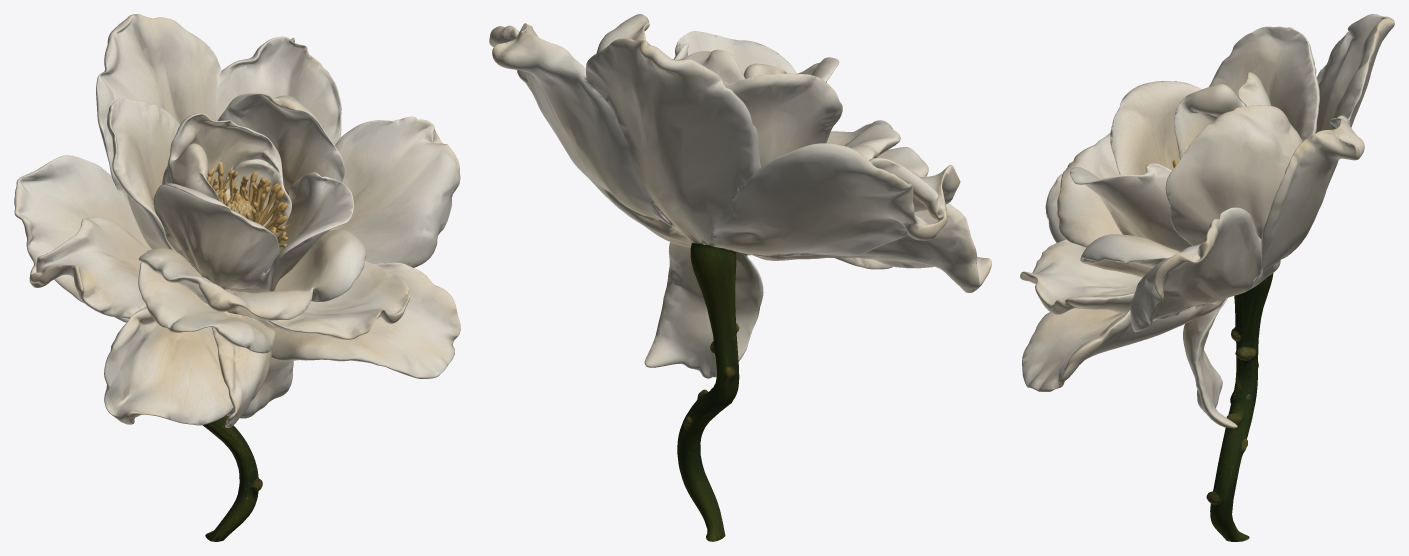
Rendered from blooming-desire.glb.
The picture shows the model from 3 angles, left to right: view 1: azimuth 30°, elevation 25°; view 2: azimuth 150°, elevation 25°; view 3: azimuth 270°, elevation 25°; orthographic projection. The views are drawn at different scales.
Bounding box in the file's own units: 1.68 × 1.9 × 1.25.
Materials: 1 (1 with a texture image).
